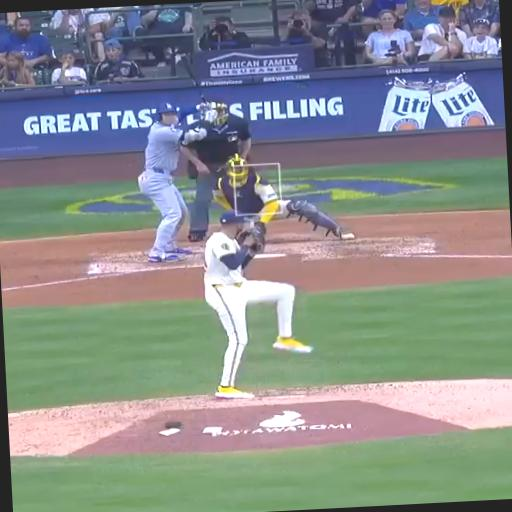bat: (181, 55, 199, 86)
